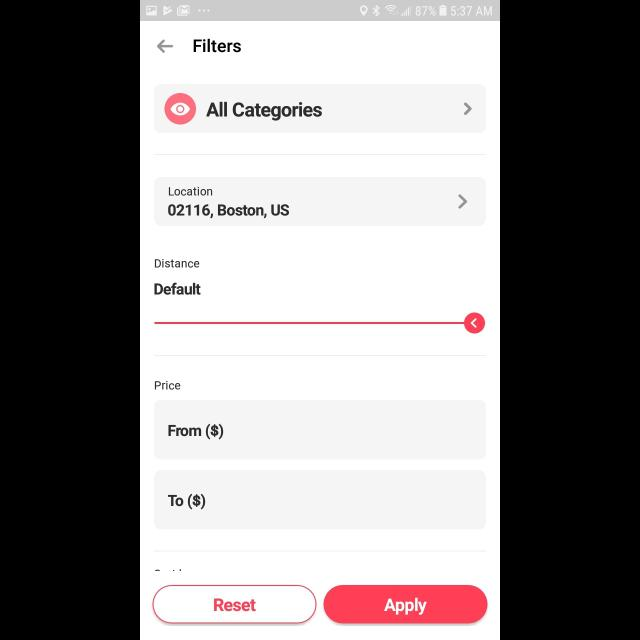icon: (164, 92, 196, 124), (463, 312, 485, 332), (156, 40, 172, 52), (458, 193, 467, 209), (462, 102, 472, 115)
text: (206, 102, 322, 120), (168, 204, 288, 218), (168, 422, 224, 440), (167, 492, 205, 510), (192, 38, 240, 52), (154, 282, 200, 296), (168, 186, 212, 196), (155, 258, 199, 268), (154, 380, 180, 390)
textbutton: (152, 584, 316, 624), (324, 584, 488, 622)
uppertaskbar: (140, 1, 500, 22)
